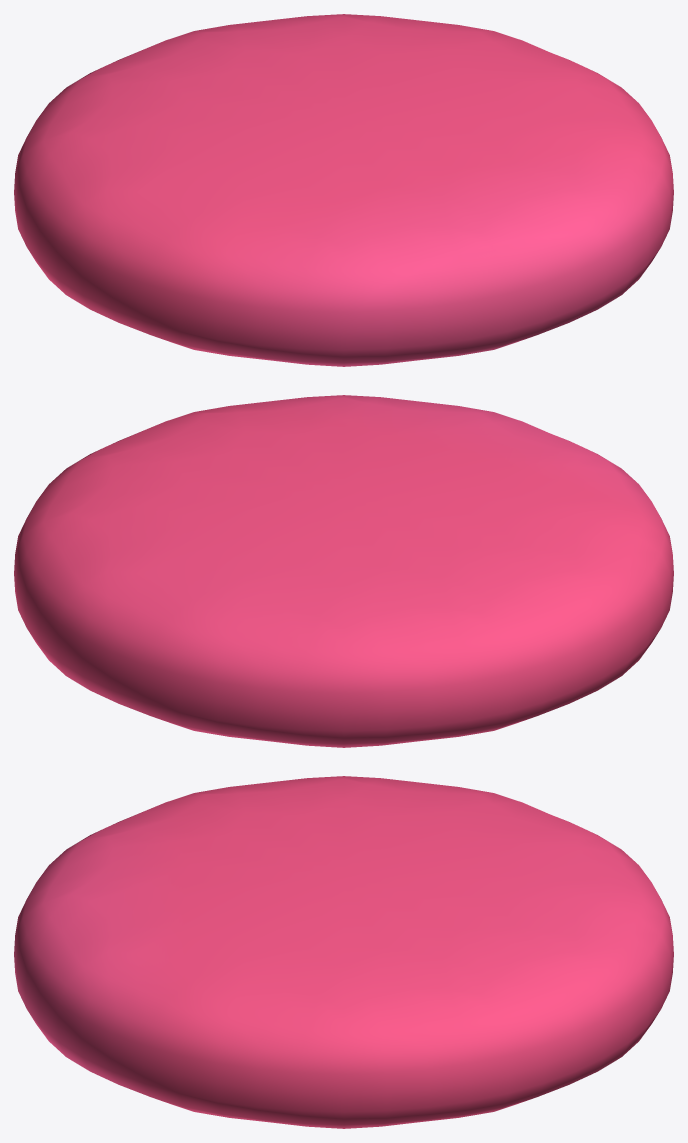
File: pink.glb
3 renders of one model, top to bottom at view 1: azimuth 30°, elevation 25°; view 2: azimuth 150°, elevation 25°; view 3: azimuth 270°, elevation 25°, orthographic.
Parts seen in each view (by area): view 1: pink; view 2: pink; view 3: pink.
Boxes of the visible parts, x1,y1,x2,y2 form: pink: [14, 14, 673, 366]; pink: [14, 395, 673, 747]; pink: [14, 776, 673, 1128].
Bounding box in the file's own units: 0.1212 × 0.0298 × 0.1212.
1 material, 1 textured.
